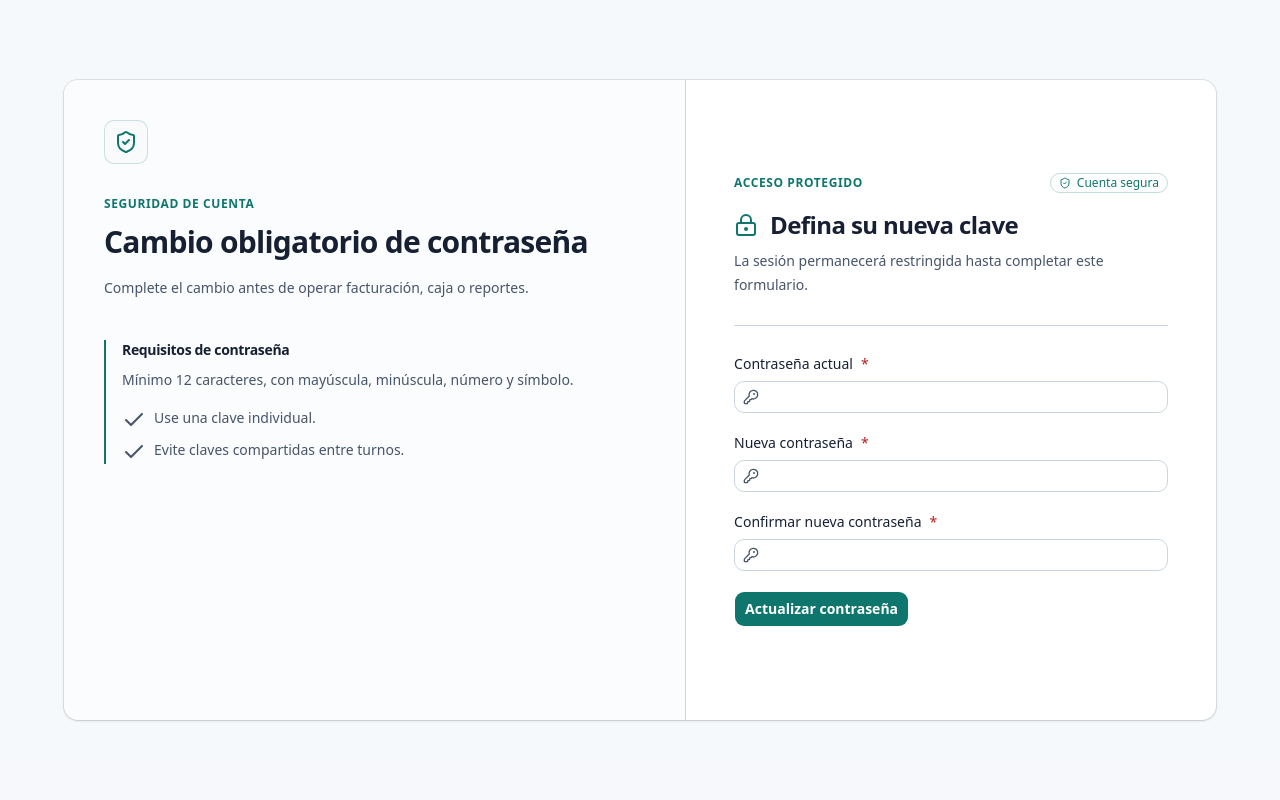
PasswordChangeView › muestra el error de confirmación cuando las contraseñas no coinciden
Type "ClaveActual1!" into the password field labelled "Contraseña actual" at (963, 397), box [759,381,1167,413]
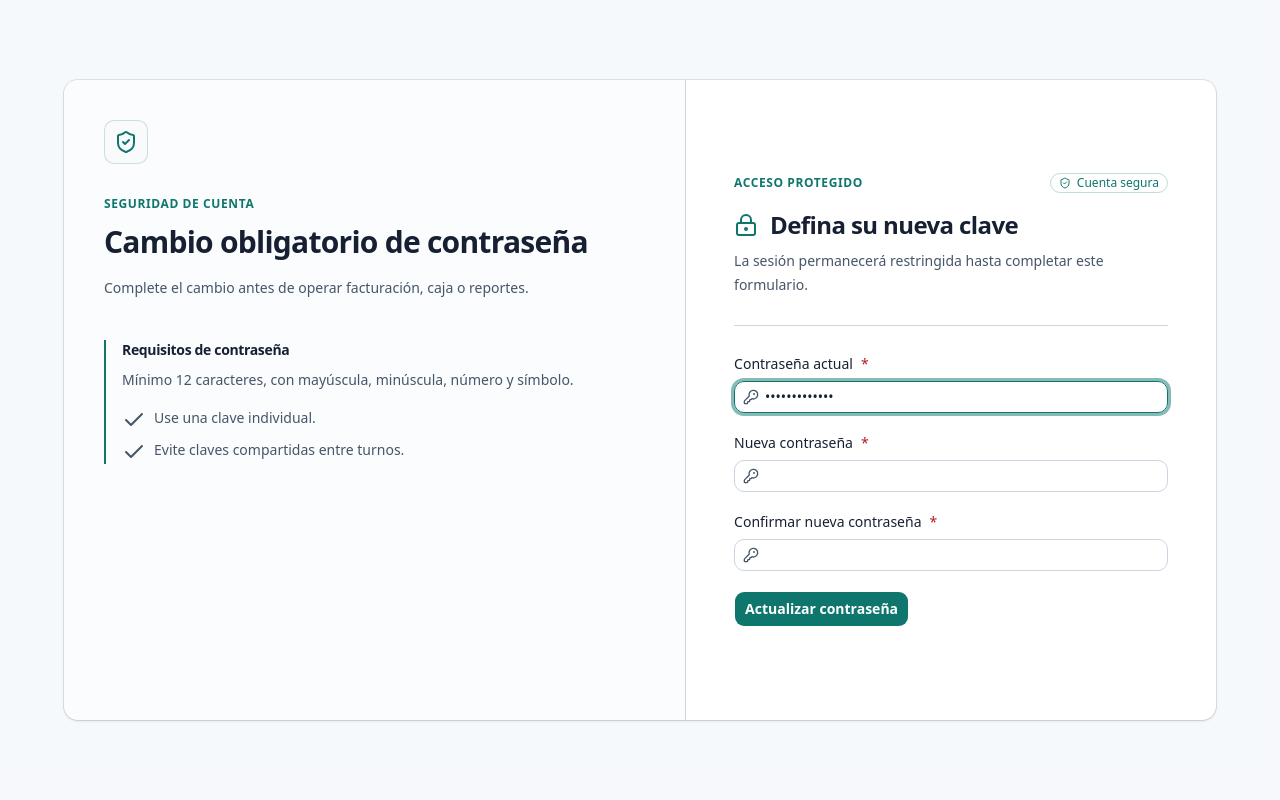
Type "NuevaClave123!" into the password field labelled "Nueva contraseña" at (963, 476), box [759,460,1167,492]
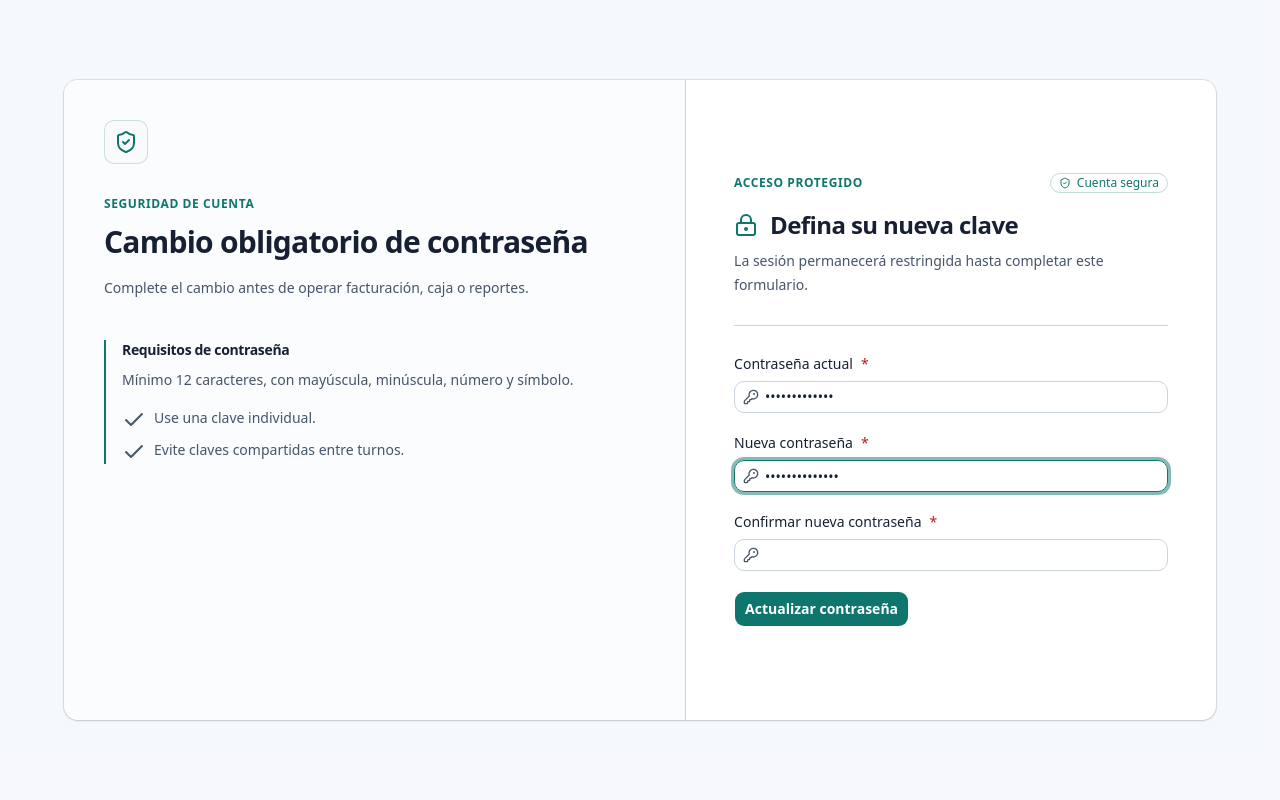
Type "OtraClave123!" into the password field labelled "Confirmar nueva contraseña" at (963, 555), box [759,539,1167,571]
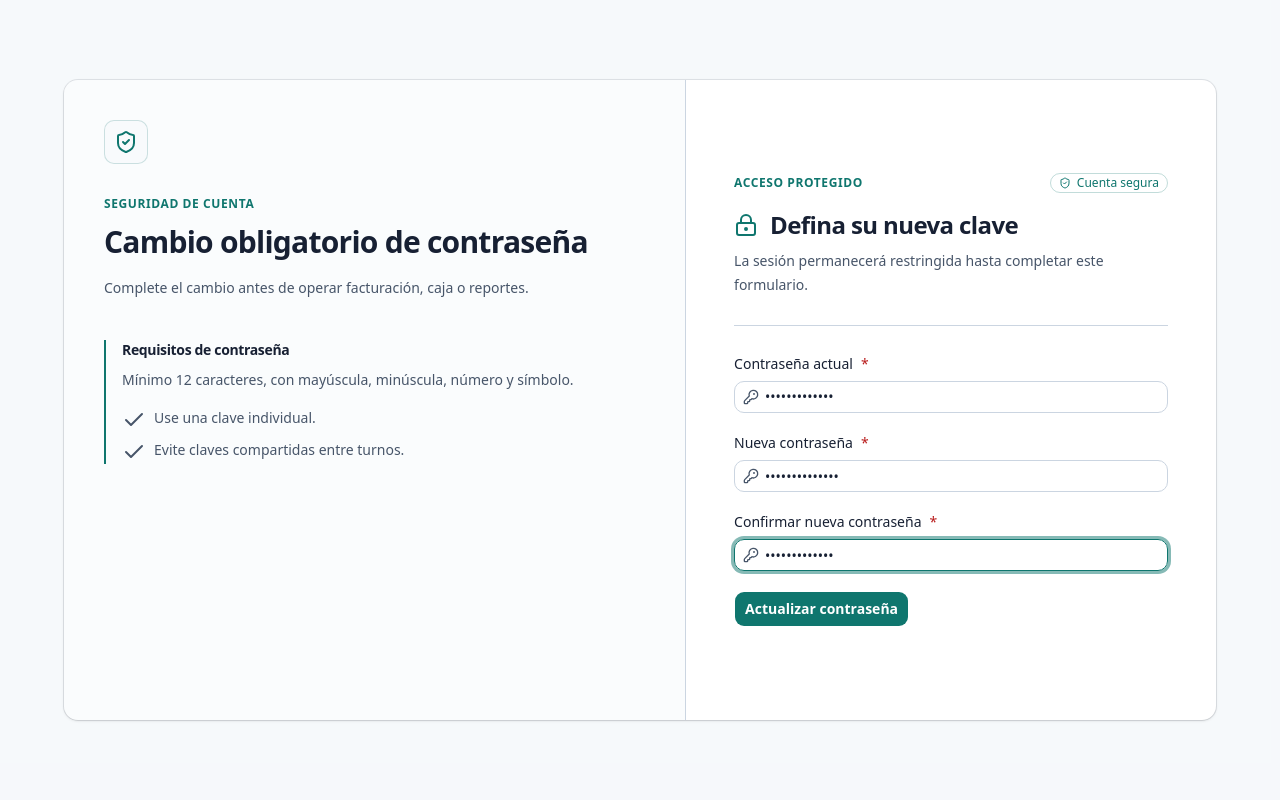
Click the button "Actualizar contraseña" at (822, 609), box [734,591,909,627]
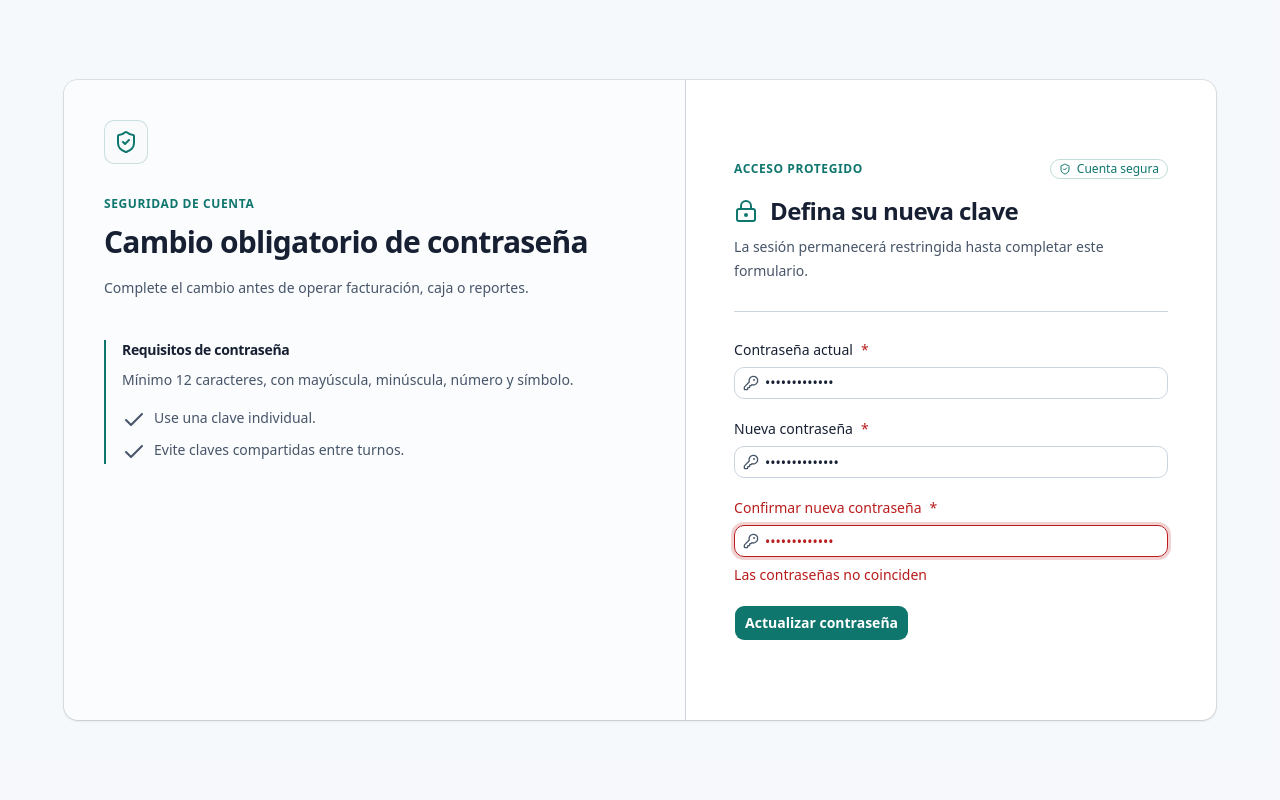
Check: the text "Las contraseñas no coinciden" is shown, box [734,565,927,584]
